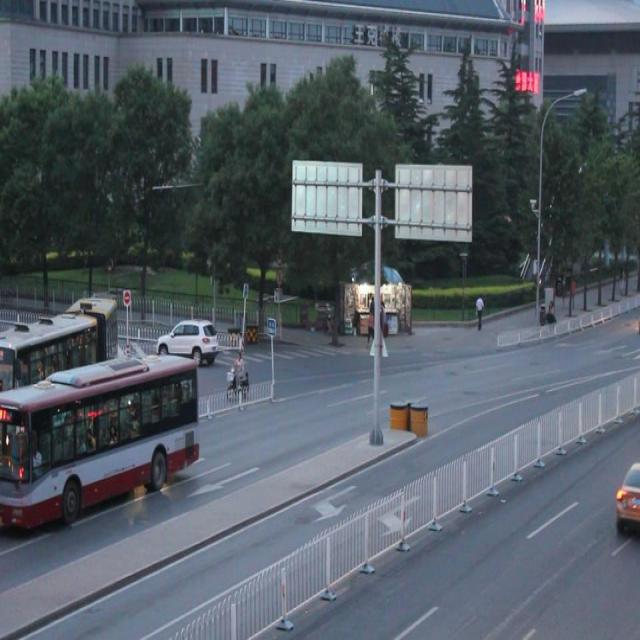car: (162, 309, 223, 359), (121, 332, 167, 387), (613, 459, 640, 527)
van: (1, 355, 205, 528), (1, 298, 120, 404)
